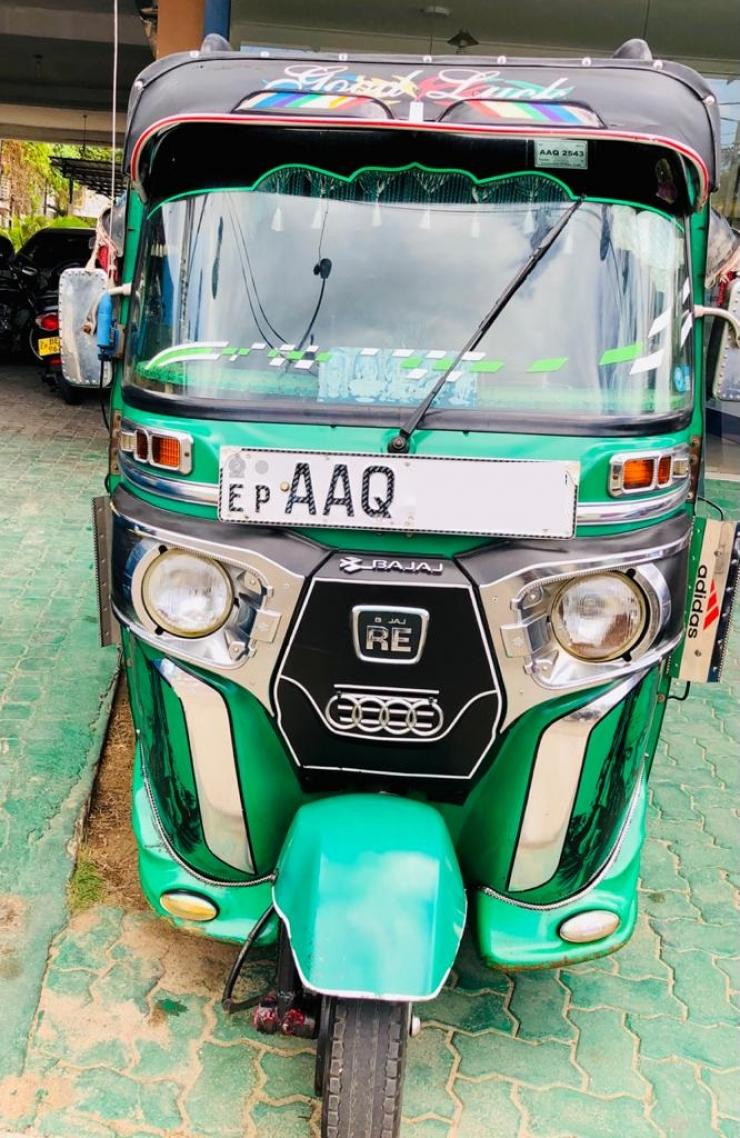threewheel: (59, 47, 740, 1138)
